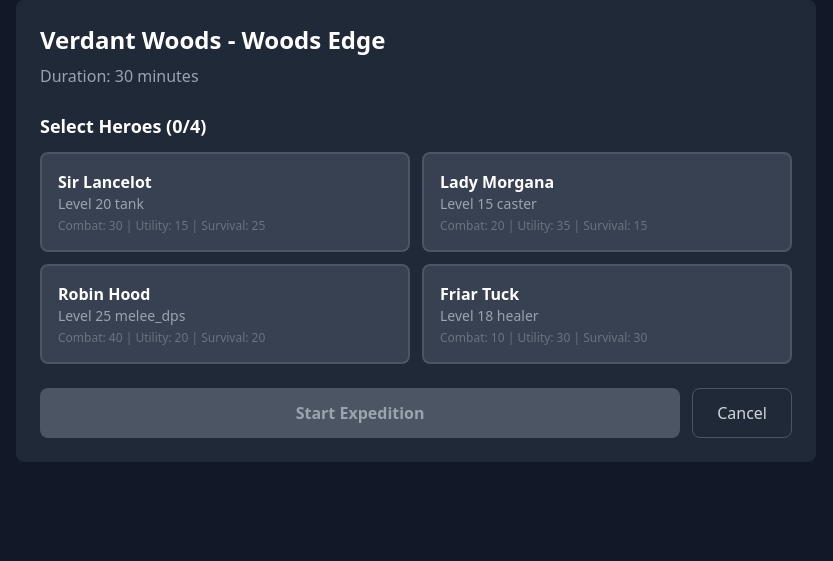
Test: Setup (Expedition) › Error Handling › should show error when expedition fails to start
Click the button with class "hero-card" that starts with "Sir Lancelot". click: (105, 182)
box: [40,152,410,252]
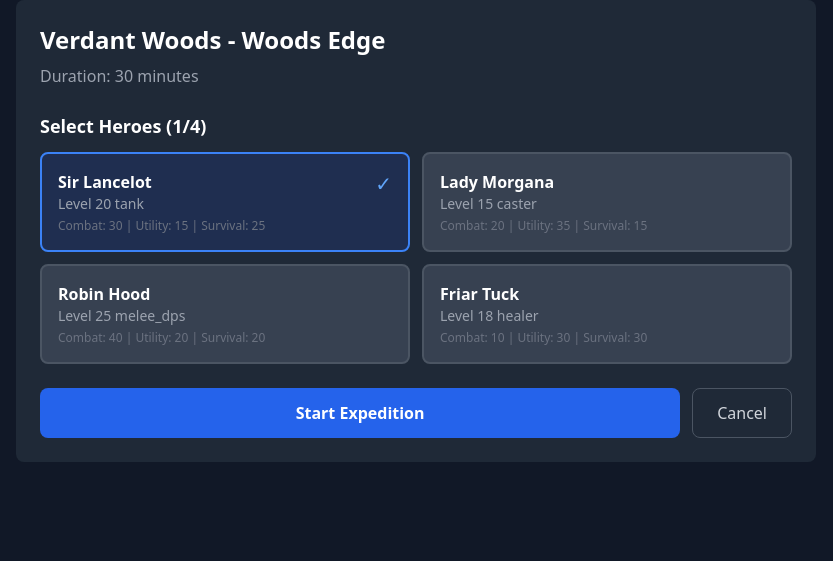
Click the button "Start Expedition". click: (360, 413)
box: [40,388,680,438]
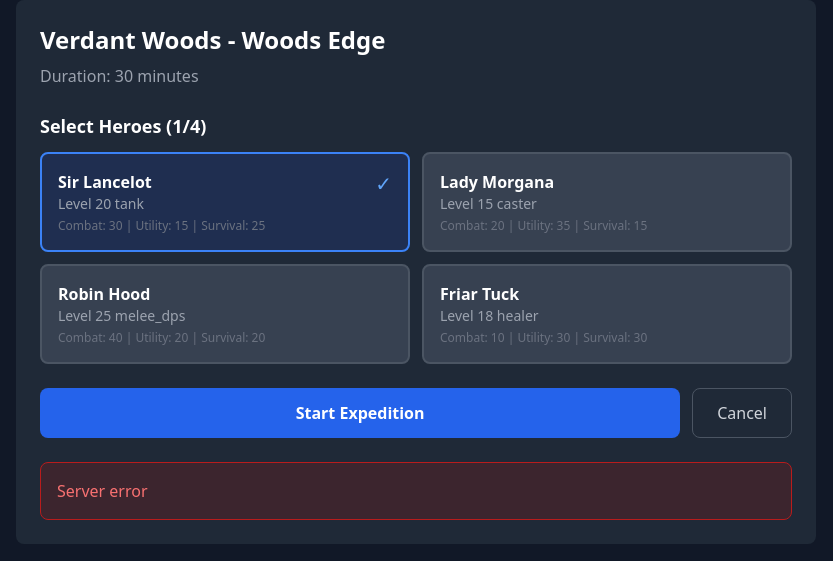
Expected: the text "Server error" is shown, [40,462,792,520]
